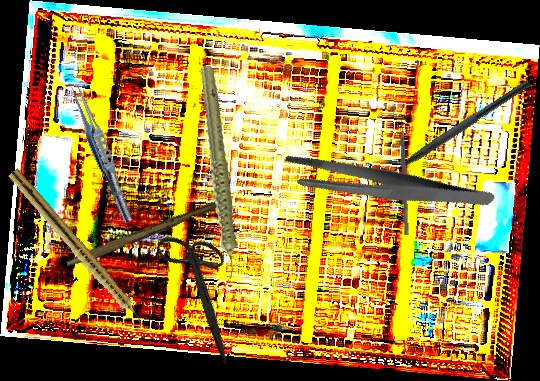Chopper: (374, 69, 532, 185)
Dressing Forceps: (277, 110, 497, 260)
Handpiece: (4, 167, 149, 330), (173, 64, 261, 288)
Iris Scissors: (124, 218, 279, 364)
Scalpel Handle: (65, 193, 229, 273)
Spatula Surgical: (397, 114, 415, 236)
Tissue Forceps: (64, 82, 140, 225)
